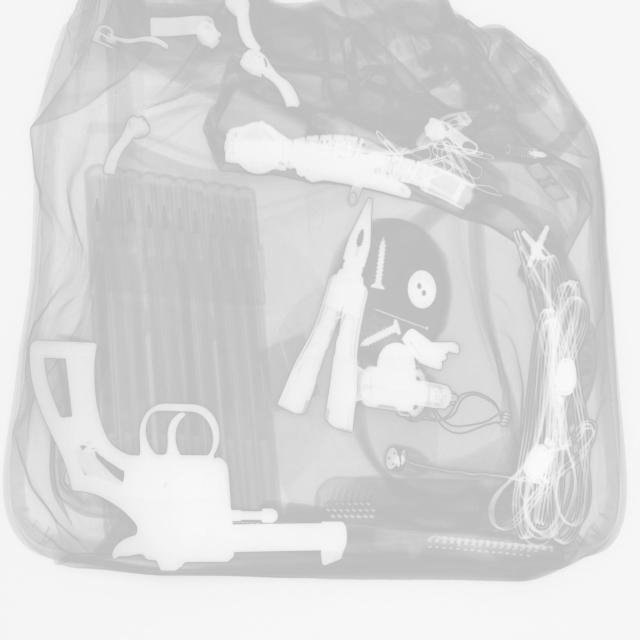pistol: (28, 336, 350, 572)
